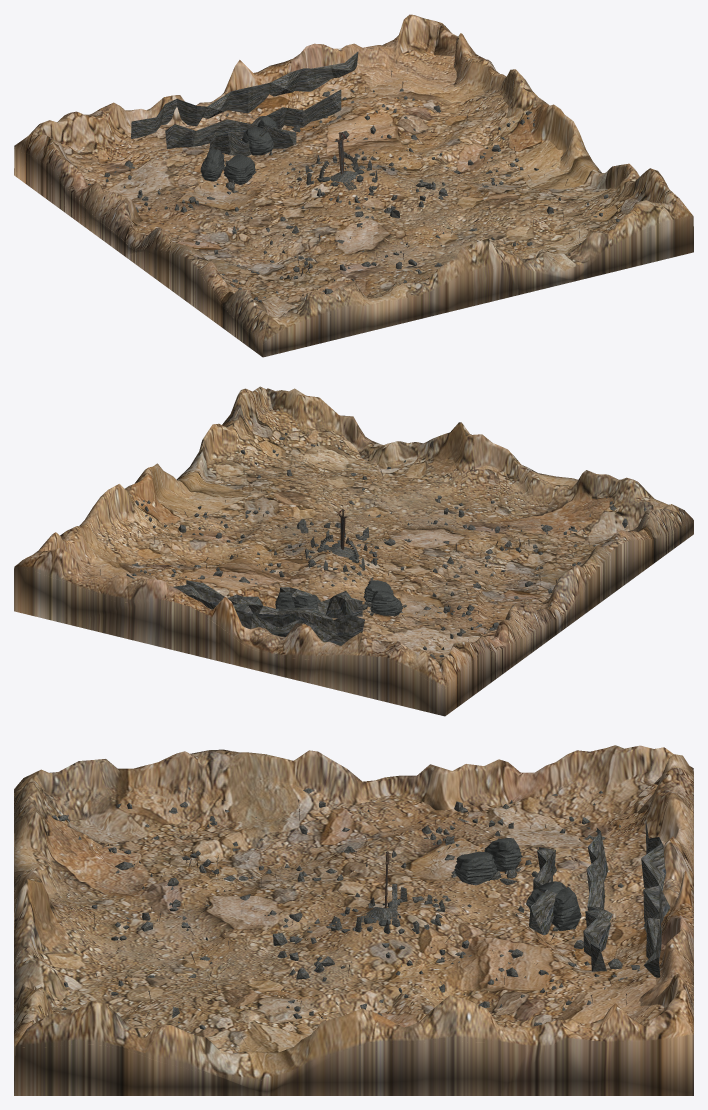
Rendered from world007_LOD2.fbx.
The picture shows the model from 3 angles, top to bottom: view 1: azimuth 30°, elevation 25°; view 2: azimuth 150°, elevation 25°; view 3: azimuth 270°, elevation 25°; orthographic projection. The views are drawn at different scales.
Visible parts, largest first — view 1: LODMesh_0306, LODMesh_0307, LODMesh_0304, LODMesh_0305, LODMesh_0062, LODMesh_0370, LODMesh_0390, LODMesh_0387, LODMesh_0376, LODMesh_0382, LODMesh_0377, LODMesh_0371 (+30 smaller); view 2: LODMesh_0305, LODMesh_0307, LODMesh_0306, LODMesh_0304, LODMesh_0374, LODMesh_0388, LODMesh_0369, LODMesh_0381, LODMesh_0387, LODMesh_0389, LODMesh_0371, LODMesh_0370 (+26 smaller); view 3: LODMesh_0304, LODMesh_0307, LODMesh_0306, LODMesh_0305, LODMesh_0383, LODMesh_0364, LODMesh_0363, LODMesh_0375, LODMesh_0388, LODMesh_0390, LODMesh_0369, LODMesh_0376 (+32 smaller).
Part boxes in pixels (x1,y1,x2,y2): LODMesh_0306: [263, 200, 693, 357]; LODMesh_0307: [14, 132, 268, 357]; LODMesh_0304: [433, 23, 692, 215]; LODMesh_0305: [14, 14, 442, 169]; LODMesh_0062: [131, 51, 358, 138]; LODMesh_0370: [212, 214, 322, 272]; LODMesh_0390: [343, 92, 455, 145]; LODMesh_0387: [467, 191, 580, 244]; LODMesh_0376: [283, 192, 395, 252]; LODMesh_0382: [354, 178, 466, 230]; LODMesh_0377: [242, 160, 353, 214]; LODMesh_0371: [170, 184, 281, 238]; LODMesh_0305: [14, 548, 444, 716]; LODMesh_0307: [438, 504, 693, 716]; LODMesh_0306: [266, 388, 693, 530]; LODMesh_0304: [14, 386, 273, 574]; LODMesh_0374: [436, 465, 530, 522]; LODMesh_0388: [210, 489, 323, 537]; LODMesh_0369: [468, 523, 580, 570]; LODMesh_0381: [324, 481, 435, 528]; LODMesh_0387: [251, 461, 364, 510]; LODMesh_0389: [169, 522, 280, 565]; LODMesh_0371: [394, 573, 496, 620]; LODMesh_0370: [425, 551, 538, 596]; LODMesh_0304: [14, 995, 693, 1095]; LODMesh_0307: [18, 745, 673, 810]; LODMesh_0306: [14, 773, 74, 1092]; LODMesh_0305: [634, 754, 693, 1071]; LODMesh_0383: [352, 910, 468, 978]; LODMesh_0364: [239, 779, 355, 848]; LODMesh_0363: [126, 786, 241, 846]; LODMesh_0375: [126, 887, 242, 942]; LODMesh_0388: [239, 973, 355, 1031]; LODMesh_0390: [466, 965, 582, 1023]; LODMesh_0369: [125, 841, 242, 893]; LODMesh_0376: [238, 881, 355, 933].
Bounding box in the file's own units: 60000 × 9703 × 60000.
